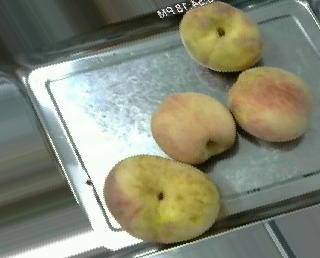Peach: (104, 154, 219, 243), (228, 66, 314, 142), (148, 92, 237, 165), (178, 0, 263, 72)
